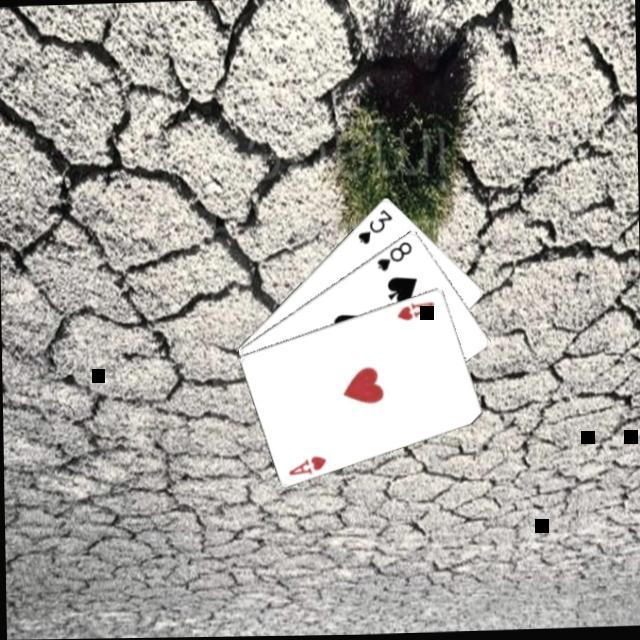3S: (354, 206, 396, 248)
8S: (373, 238, 416, 276)
AH: (286, 452, 330, 480), (394, 299, 438, 325)
